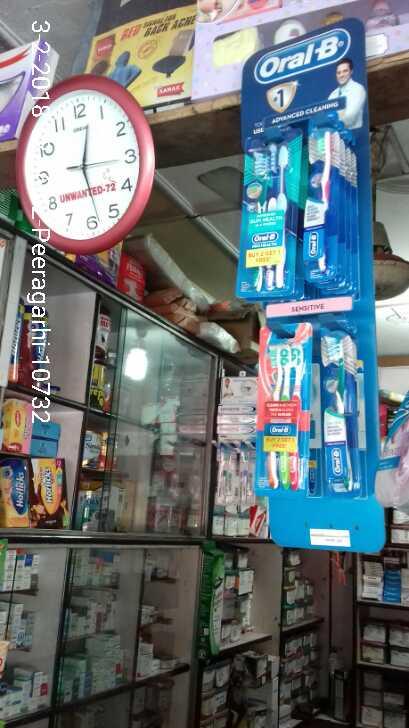oralb: (313, 325, 369, 497), (307, 139, 360, 302), (256, 338, 309, 493), (245, 144, 294, 286)
